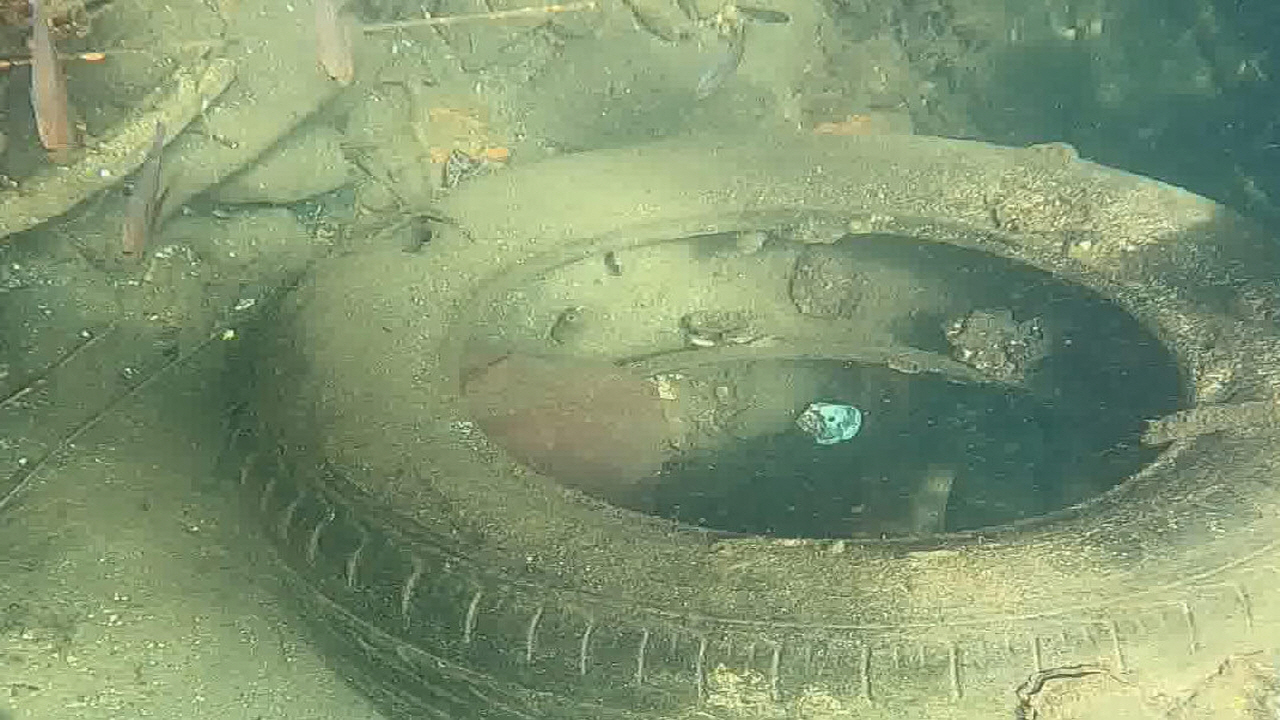tire: (228, 131, 1280, 719)
